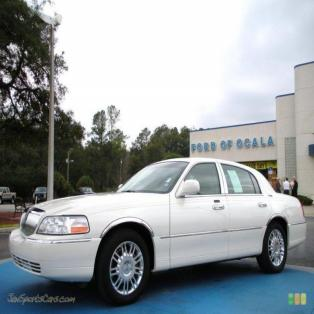Auto: (7, 153, 306, 300)
